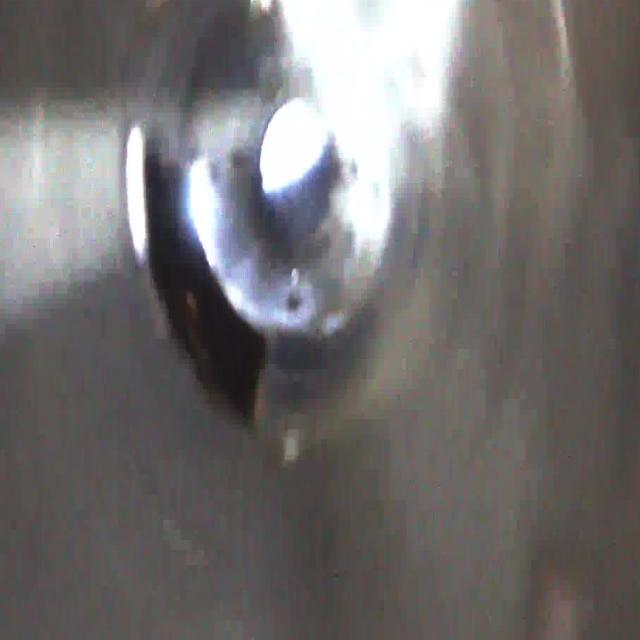hole: (117, 112, 276, 426)
